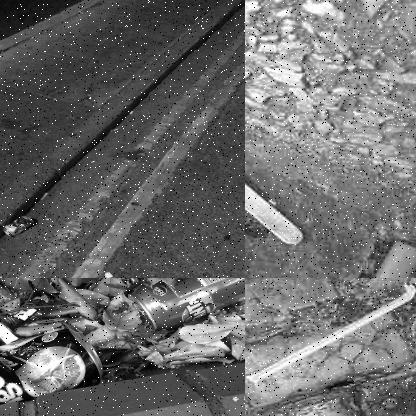metal: (0, 330, 104, 403), (126, 278, 244, 327), (0, 278, 52, 340), (2, 208, 33, 242)
plastic: (245, 282, 415, 390), (353, 234, 415, 277)
